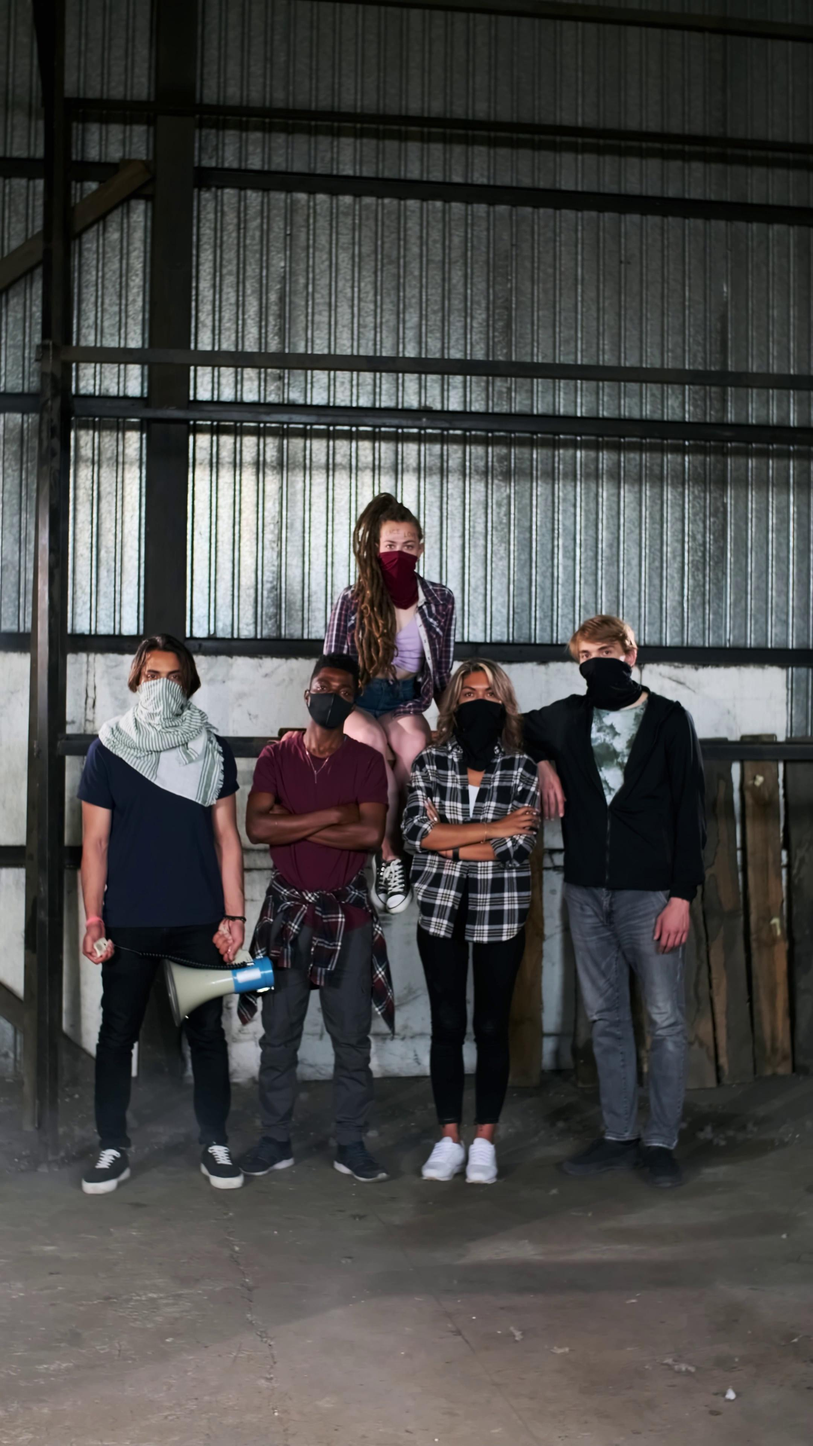mask: (131, 677, 193, 741), (454, 699, 507, 772), (579, 657, 639, 711), (380, 550, 419, 609), (308, 693, 355, 729)
person: (515, 613, 710, 1187), (73, 634, 248, 1197), (236, 654, 396, 1185), (397, 657, 544, 1188), (320, 491, 457, 914)
